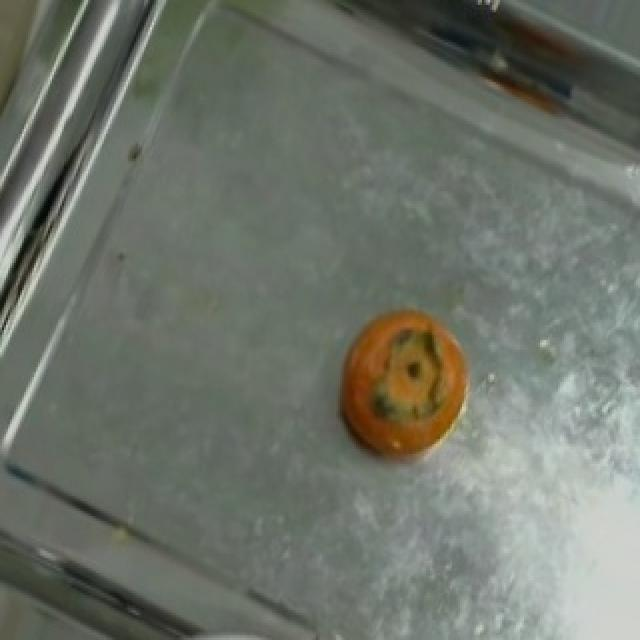Fruit: (326, 290, 478, 479)
